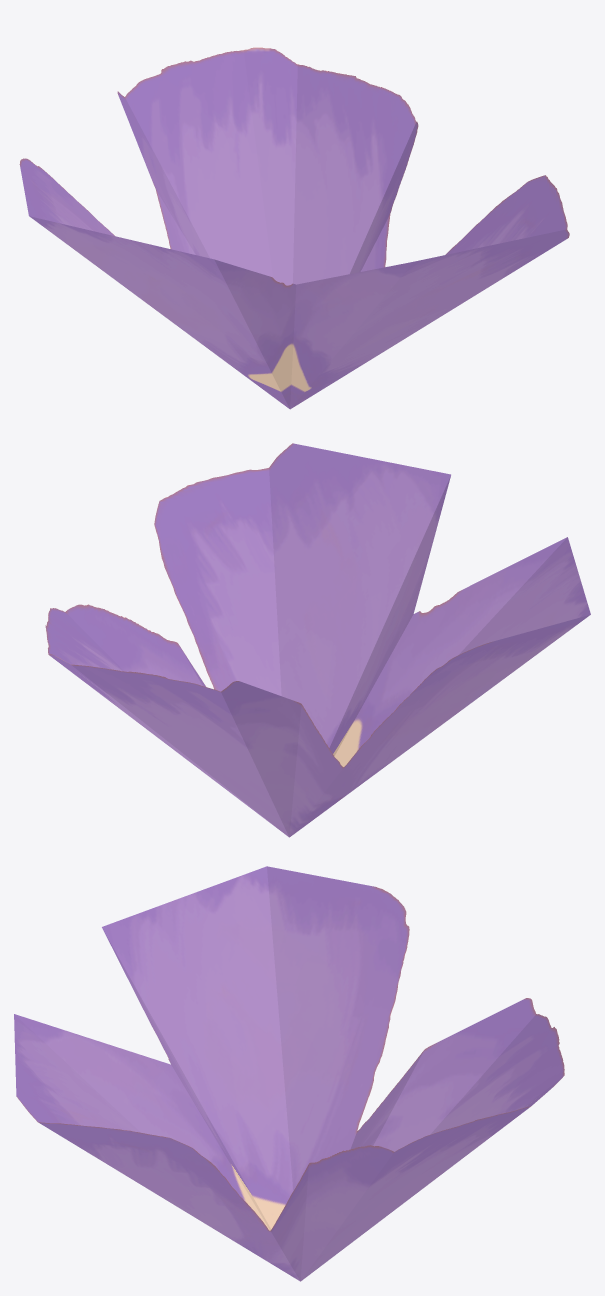
The model's file is Petal_1.glb.
3 renders of one model, top to bottom at view 1: azimuth 30°, elevation 25°; view 2: azimuth 150°, elevation 25°; view 3: azimuth 270°, elevation 25°, orthographic. The views are drawn at different scales.
Bounding box in the file's own units: 0.4602 × 0.2437 × 0.455.
1 material, 1 textured.
